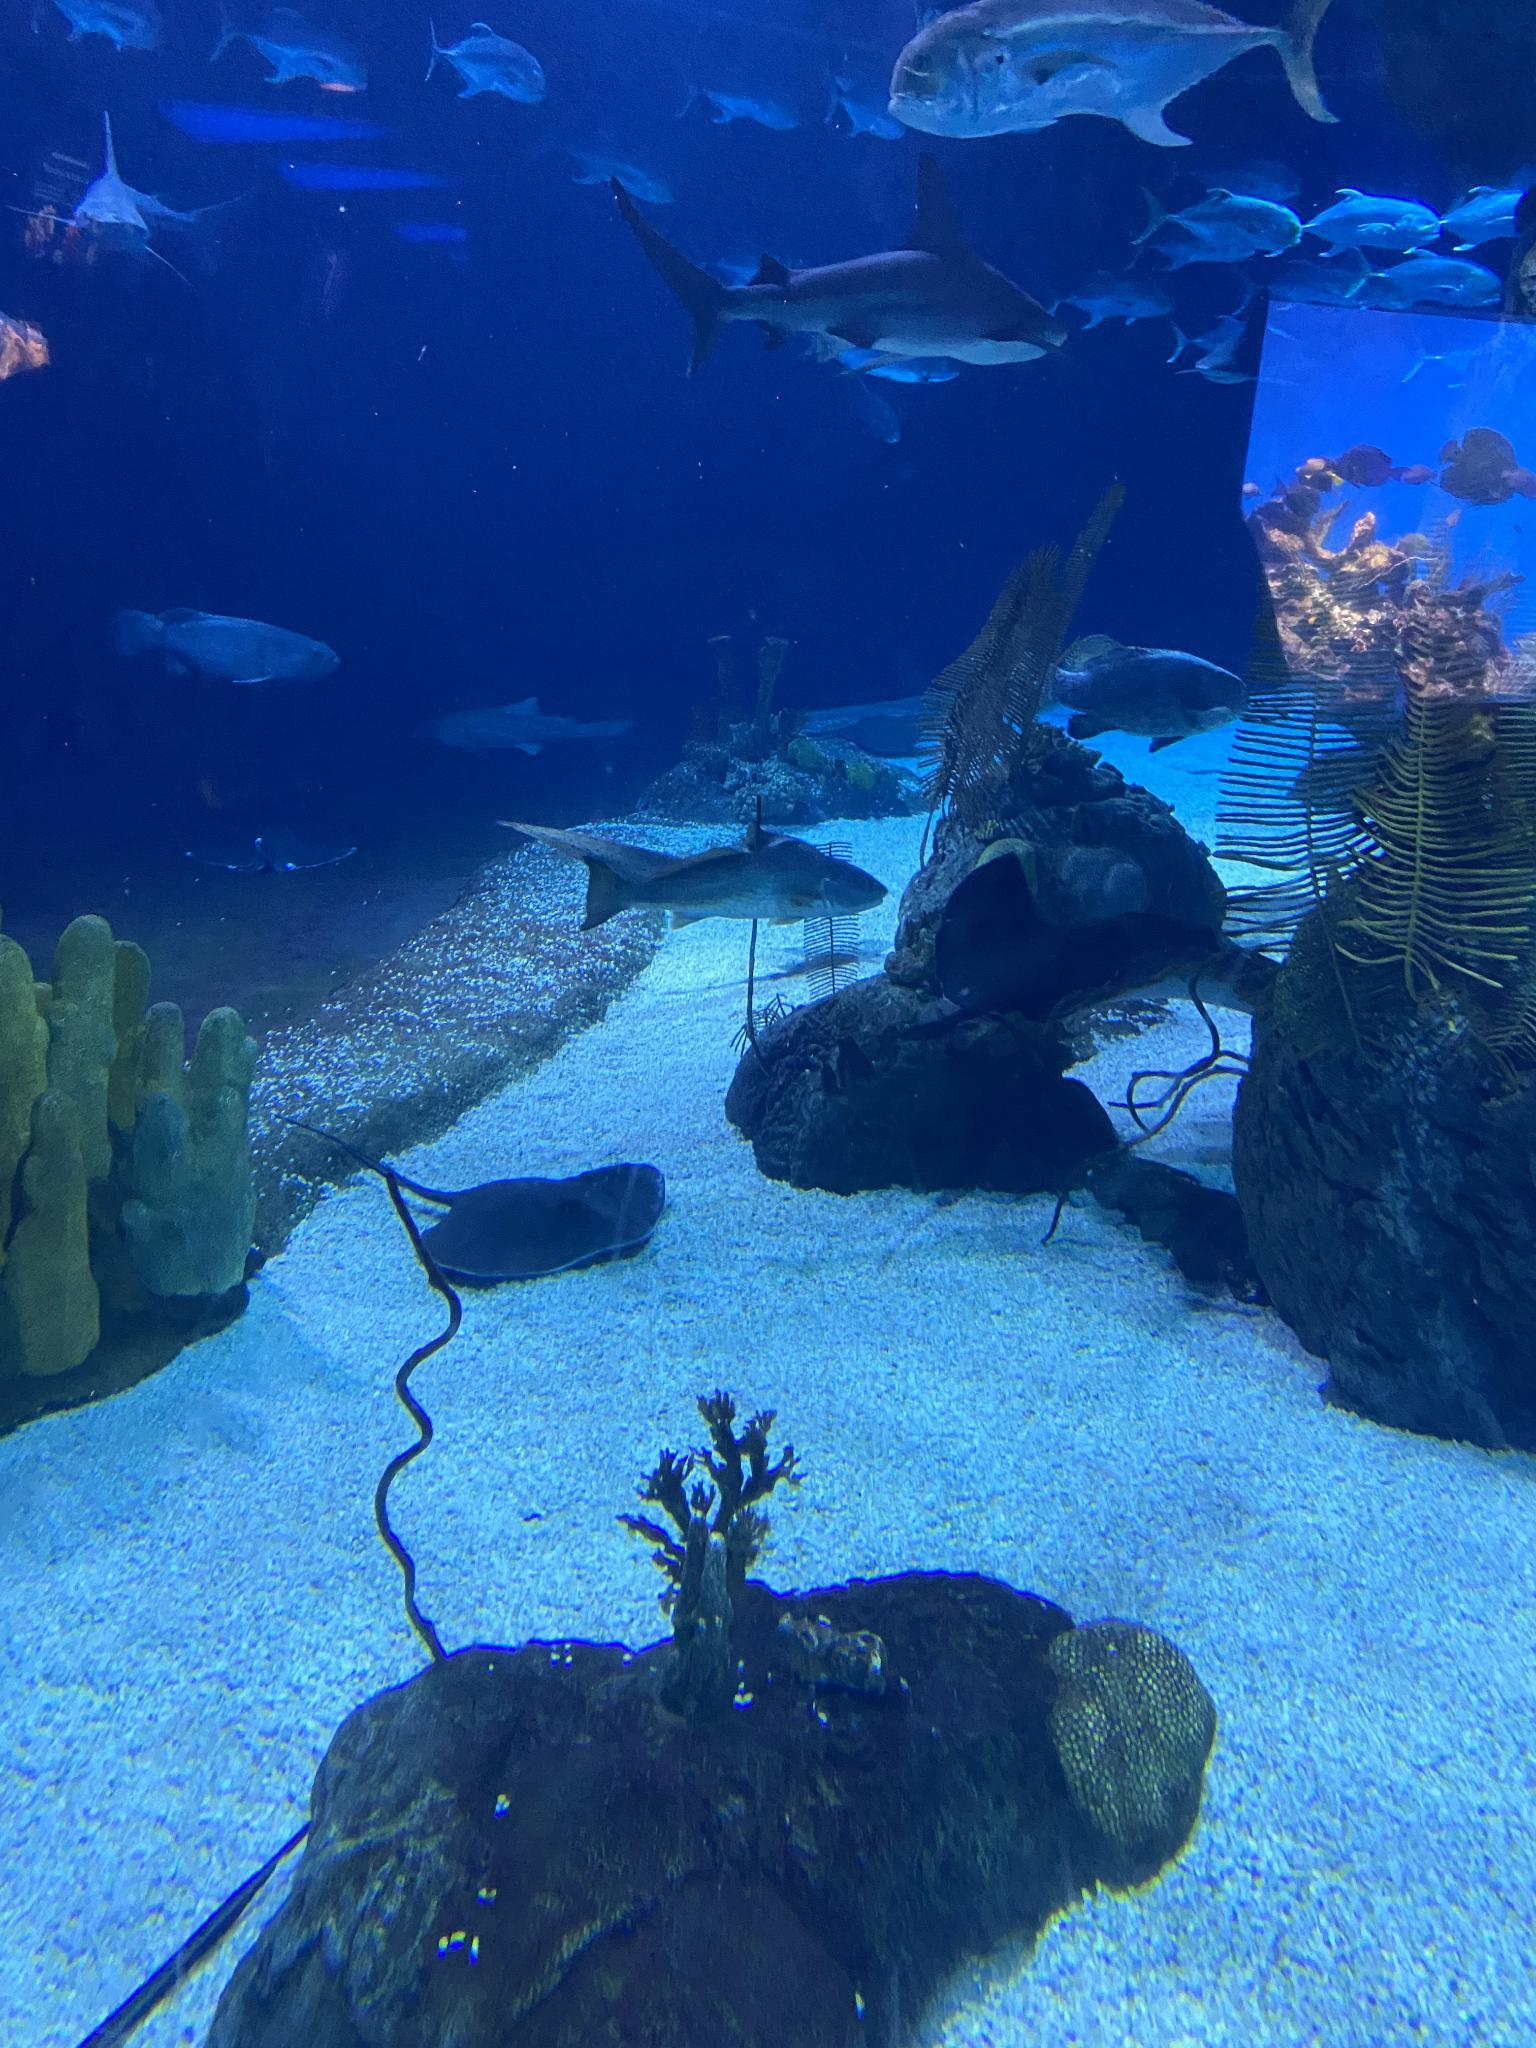fish: (894, 0, 1342, 150), (579, 839, 887, 929), (1029, 650, 1252, 753), (115, 605, 345, 692), (207, 0, 373, 94), (1129, 181, 1300, 258), (421, 15, 545, 108), (542, 127, 676, 206), (1347, 247, 1504, 311), (1297, 187, 1438, 256), (676, 53, 794, 134), (39, 0, 173, 55), (1233, 260, 1357, 318), (1431, 182, 1534, 248), (1438, 429, 1517, 503), (1070, 273, 1173, 327), (821, 79, 899, 144), (845, 379, 900, 445), (1333, 445, 1409, 485), (1501, 463, 1536, 502)
shark: (610, 152, 1058, 385), (15, 111, 257, 284), (413, 698, 634, 756), (1165, 314, 1278, 385)
stingray: (936, 851, 1271, 1018), (419, 1164, 670, 1287), (184, 824, 361, 876), (807, 711, 928, 753)
